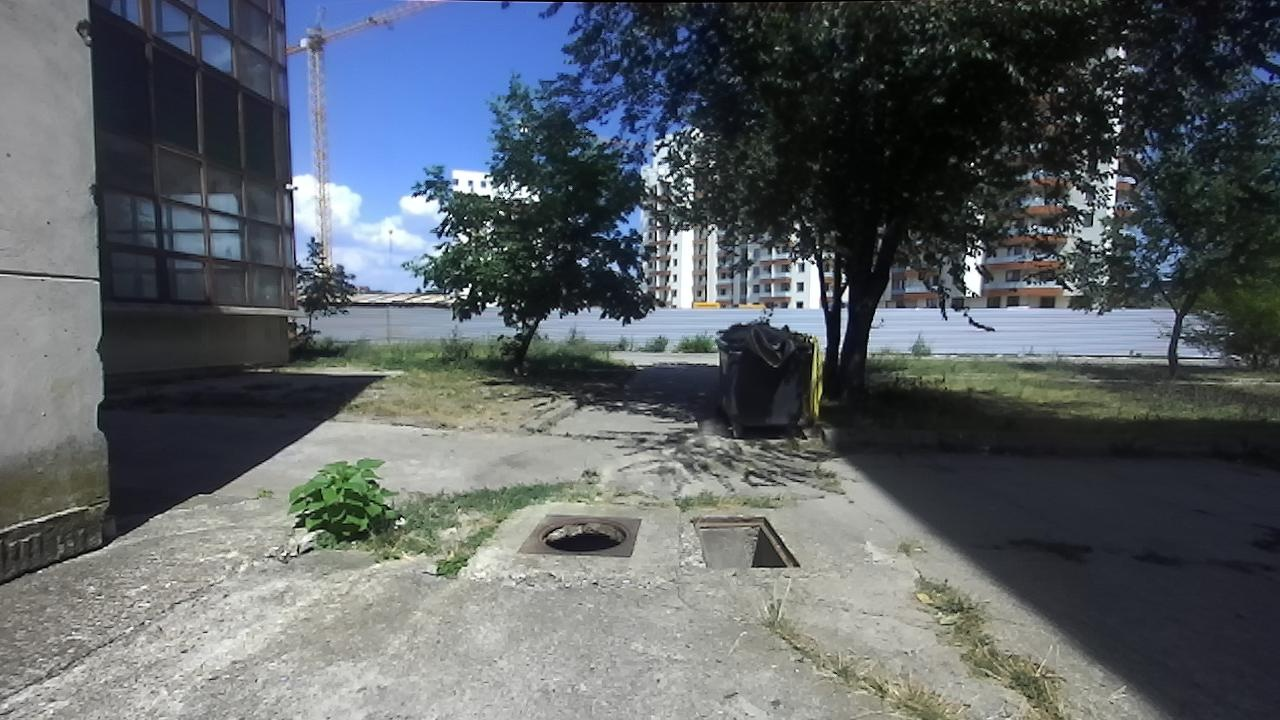drain: (687, 514, 804, 574), (535, 515, 628, 558)
